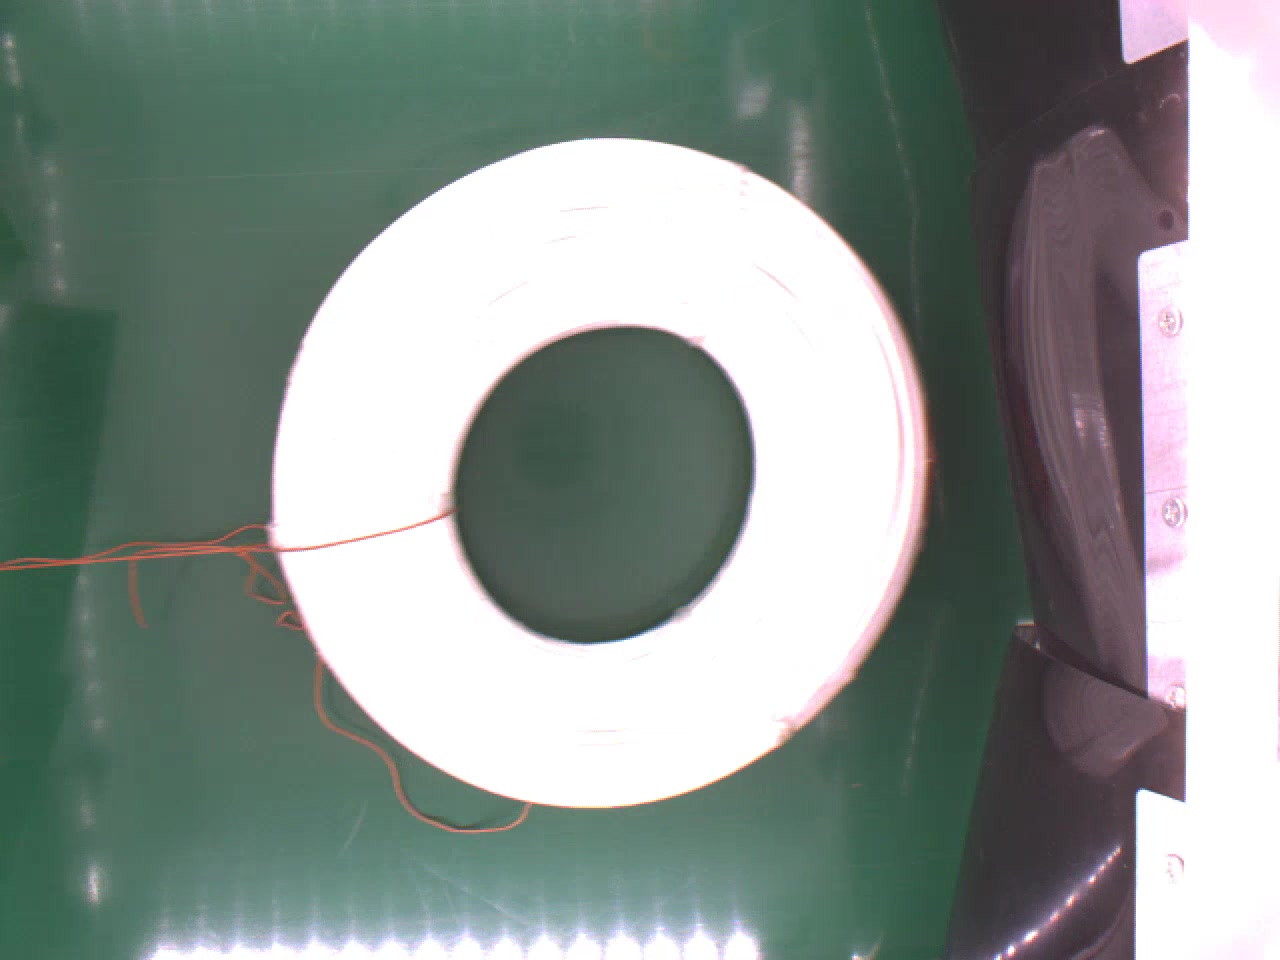white: (269, 133, 936, 813)
